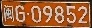G: (15, 5, 25, 22)
